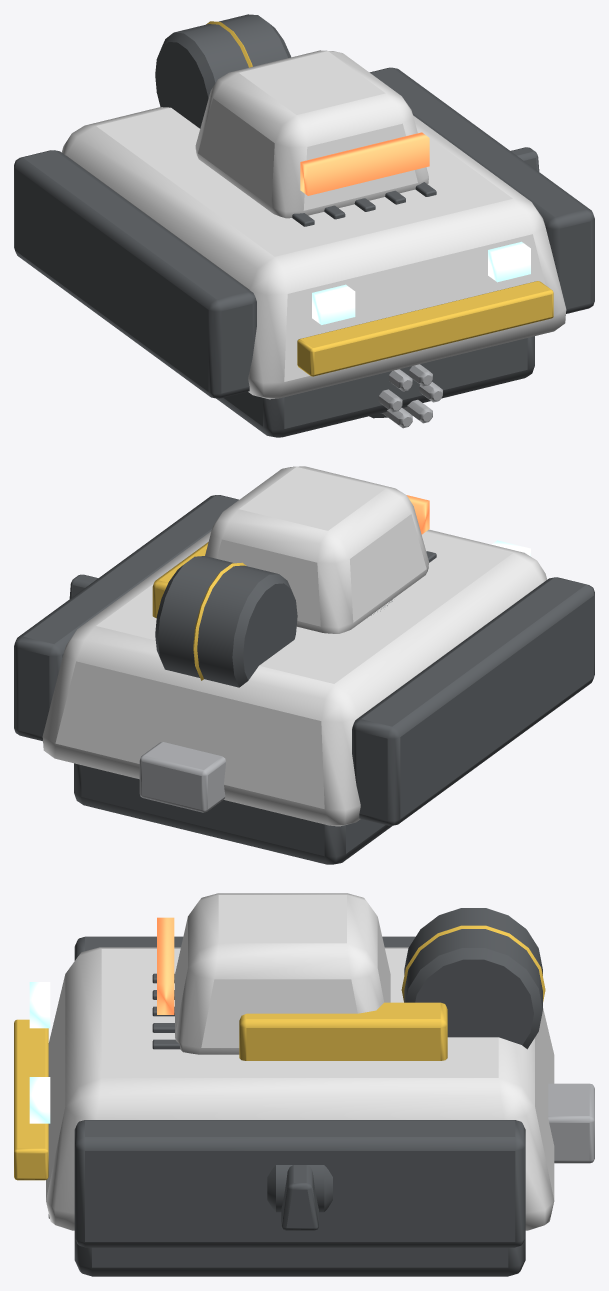
File: auto.glb
The picture shows the model from 3 angles, top to bottom: view 1: azimuth 30°, elevation 25°; view 2: azimuth 150°, elevation 25°; view 3: azimuth 270°, elevation 25°; orthographic projection. The views are drawn at different scales.
Visible parts, largest first — view 1: Hull, Turret, Barrel; view 2: Hull, Turret; view 3: Hull, Turret, LegLower, LegUpper.
Boxes of the visible parts, x1,y1,x2,y2 form: Hull: (14, 14, 594, 437); Turret: (195, 50, 429, 218); Barrel: (369, 364, 442, 428); Hull: (14, 495, 594, 864); Turret: (152, 466, 429, 633); Hull: (14, 908, 594, 1276); Turret: (157, 893, 447, 1060); LegLower: (281, 1165, 318, 1230); LegUpper: (267, 1165, 332, 1212).
Bounding box in the file's own units: 0.625 × 0.395 × 0.67.
